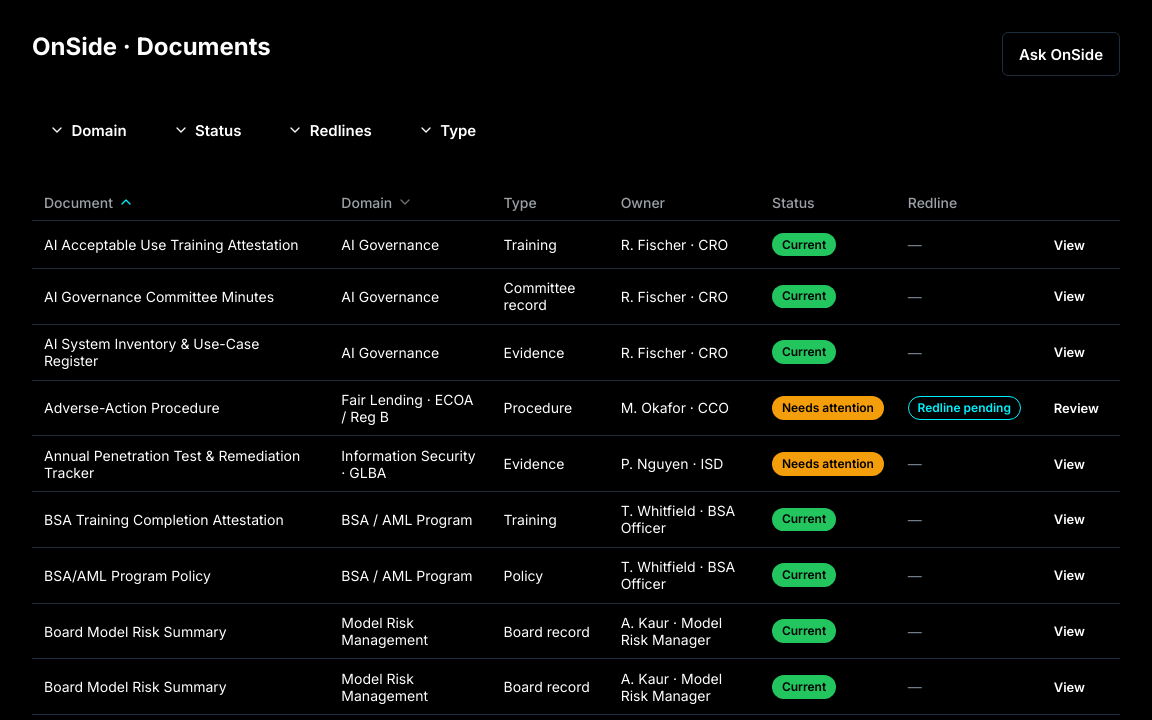
OnSide documents · universe counts (base 1930–2303 DOCLIB, §5.3, §d-8) › redline filter reports the 8 load-bearing pending redlines and zero adopted on a fresh load (§d-8; base 1930–2303 redline entries)
Expected: the element showing "Domain Status Redlines Type" is shown, [32, 108, 493, 152]
Click the button "Redlines".
click(330, 130)  # box [270, 108, 389, 152]
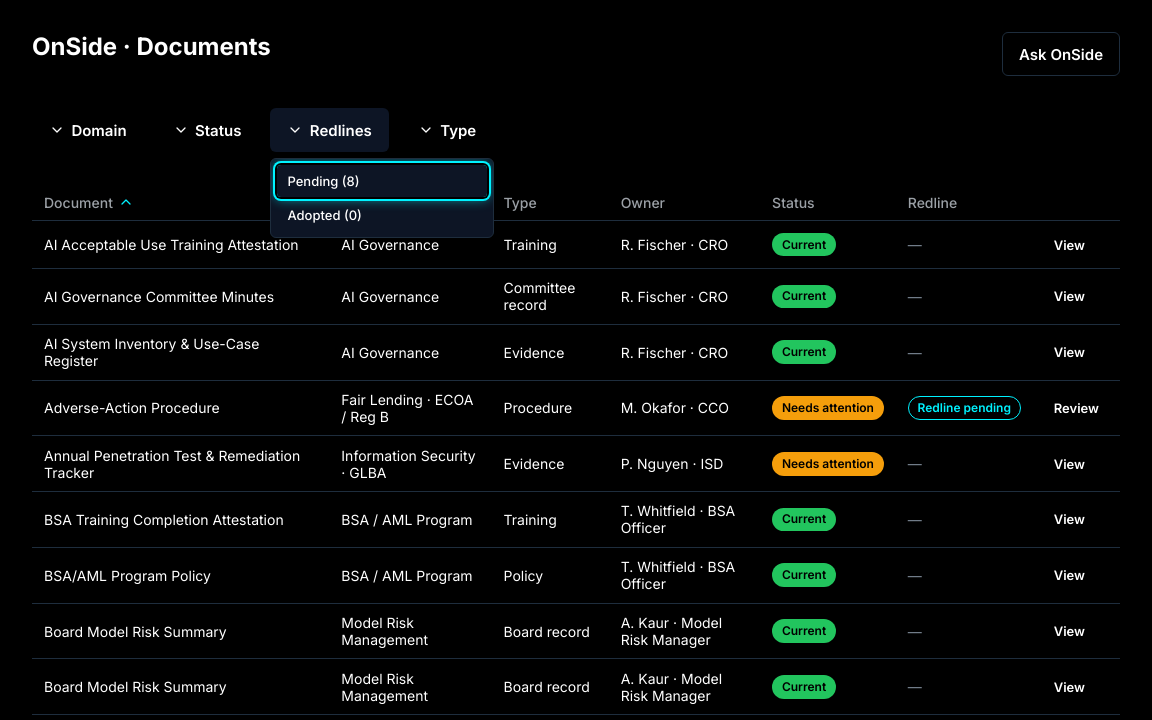
Now the button "Adopted (0)" is shown, box [278, 199, 488, 231]
